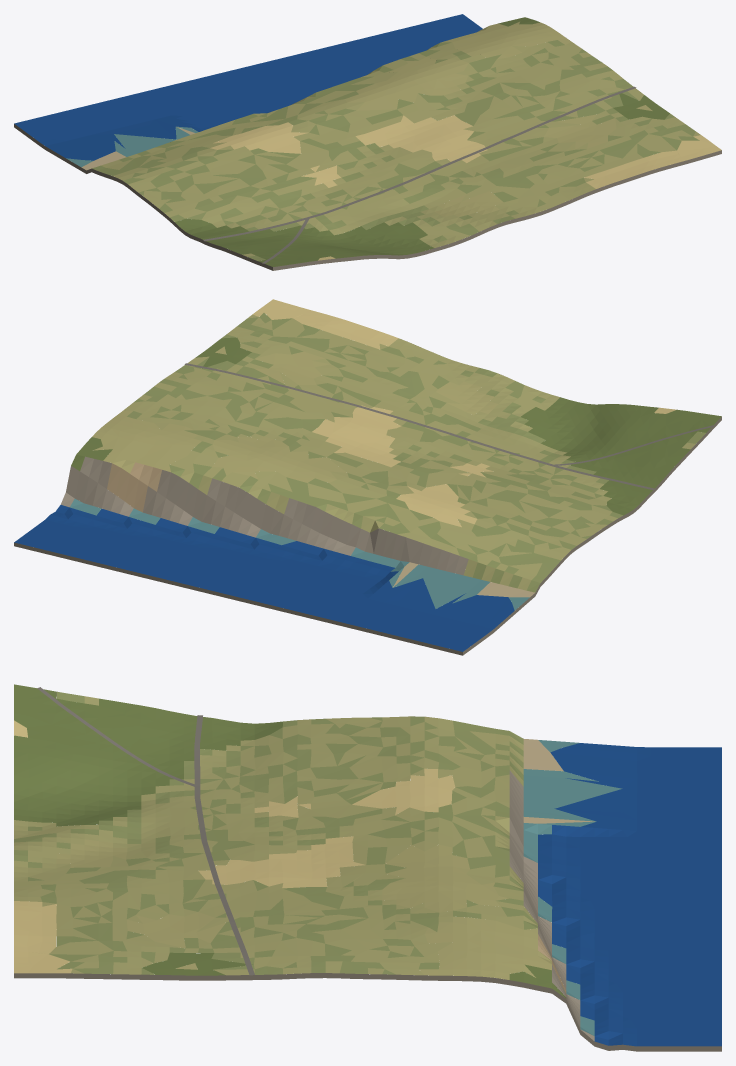
File: parca_+7_+2-uzak.glb
The picture shows the model from 3 angles, top to bottom: view 1: azimuth 30°, elevation 25°; view 2: azimuth 150°, elevation 25°; view 3: azimuth 270°, elevation 25°; orthographic projection. The views are drawn at different scales.
Parts seen in each view (by area): view 1: parca_+7_+2_arazi_uzak, parca_+7_+2_yollar_uzak; view 2: parca_+7_+2_arazi_uzak, parca_+7_+2_yollar_uzak; view 3: parca_+7_+2_arazi_uzak, parca_+7_+2_yollar_uzak.
Boxes of the visible parts, x1=… form: parca_+7_+2_arazi_uzak: x1=14, y1=14, x2=721, y2=270; parca_+7_+2_yollar_uzak: x1=203, y1=86, x2=636, y2=263; parca_+7_+2_arazi_uzak: x1=14, y1=299, x2=721, y2=655; parca_+7_+2_yollar_uzak: x1=184, y1=363, x2=713, y2=490; parca_+7_+2_arazi_uzak: x1=14, y1=684, x2=721, y2=1051; parca_+7_+2_yollar_uzak: x1=37, y1=687, x2=254, y2=975.
Size of the model in its own units: 1006 by 123 by 1000.
